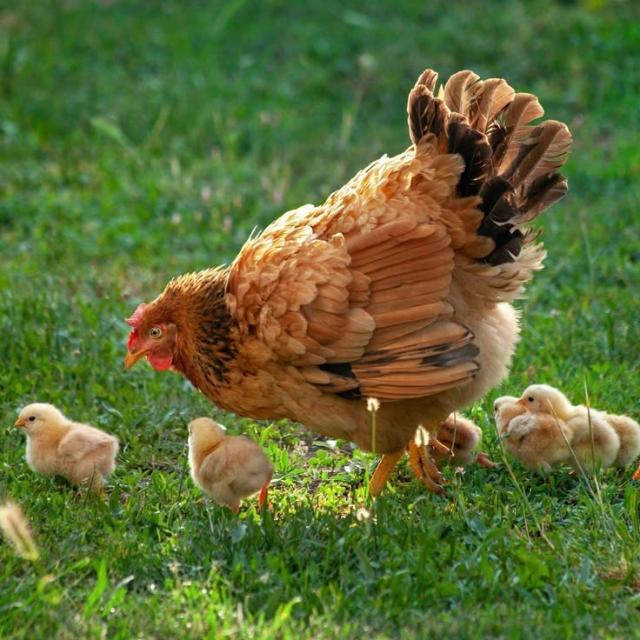Chicken: (126, 71, 571, 489)
